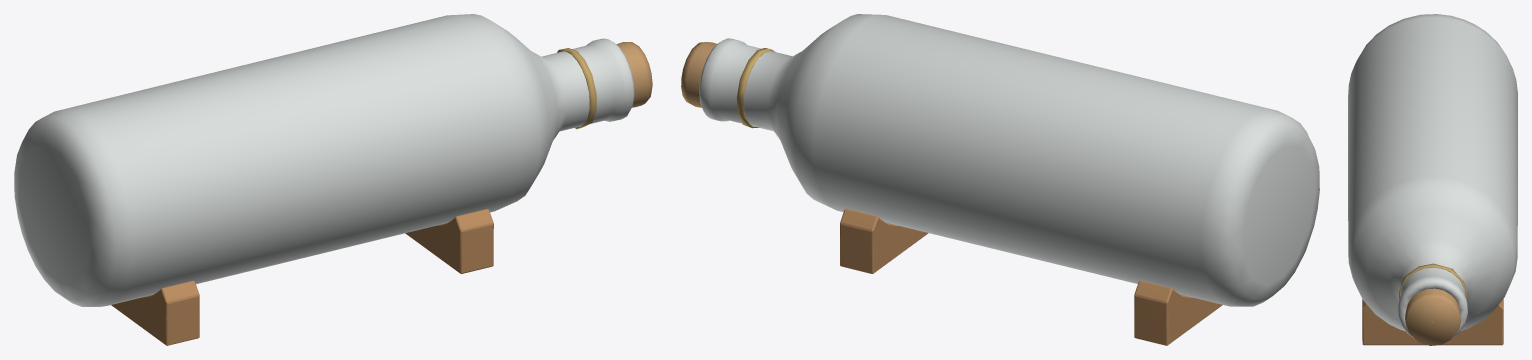
Rendered from longship-bottle-v5-lod.fbx.
3 renders of one model, left to right at view 1: azimuth 30°, elevation 25°; view 2: azimuth 150°, elevation 25°; view 3: azimuth 270°, elevation 25°, orthographic. The views are drawn at different scales.
Visible parts, largest first — view 1: Bottle | lightweight transparent glass, Longship | lightweight opaque assembly; view 2: Bottle | lightweight transparent glass, Longship | lightweight opaque assembly; view 3: Bottle | lightweight transparent glass, Longship | lightweight opaque assembly.
Boxes of the visible parts, x1=… form: Bottle | lightweight transparent glass: x1=14, y1=14, x2=634, y2=306; Longship | lightweight opaque assembly: x1=111, y1=42, x2=652, y2=345; Bottle | lightweight transparent glass: x1=699, y1=14, x2=1319, y2=306; Longship | lightweight opaque assembly: x1=681, y1=42, x2=1222, y2=345; Bottle | lightweight transparent glass: x1=1348, y1=14, x2=1517, y2=337; Longship | lightweight opaque assembly: x1=1362, y1=263, x2=1503, y2=345.
Bounding box in the file's own units: 188 × 64.69 × 56.47.
